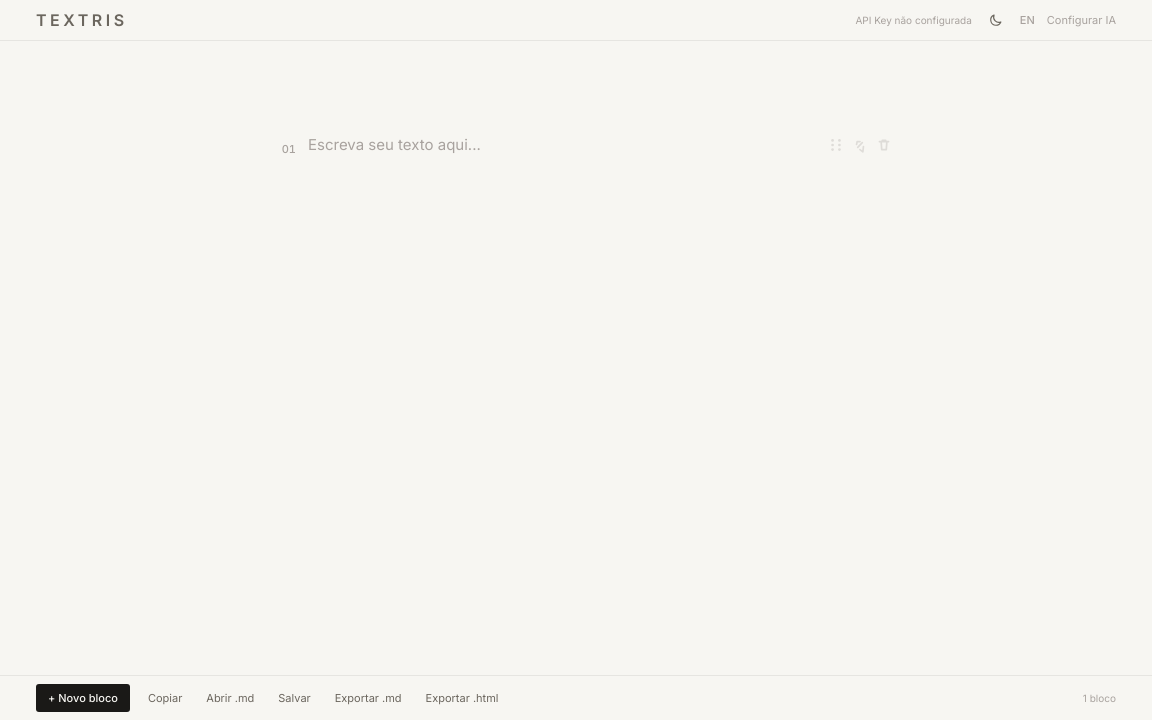
it: App › toggles dark mode on button click
Click the button titled "Modo escuro" at [996, 20], box 984,8 -> 1008,32
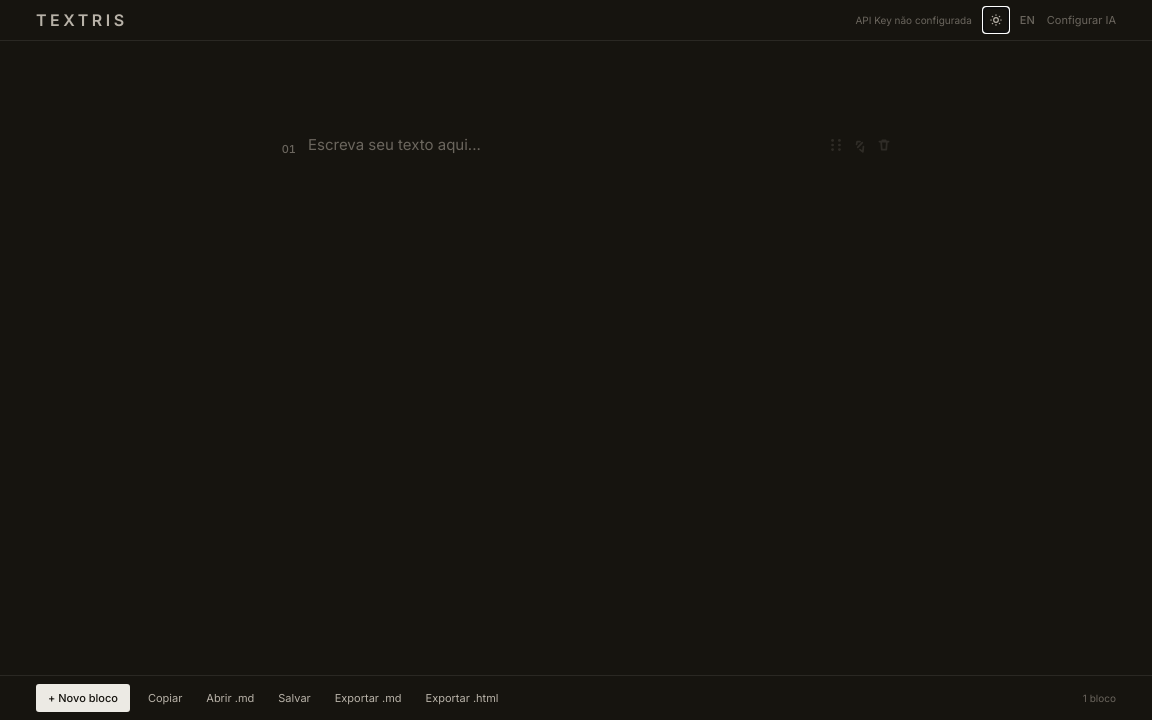
Now the button titled "Modo claro" is shown, box 984,8 -> 1008,32
